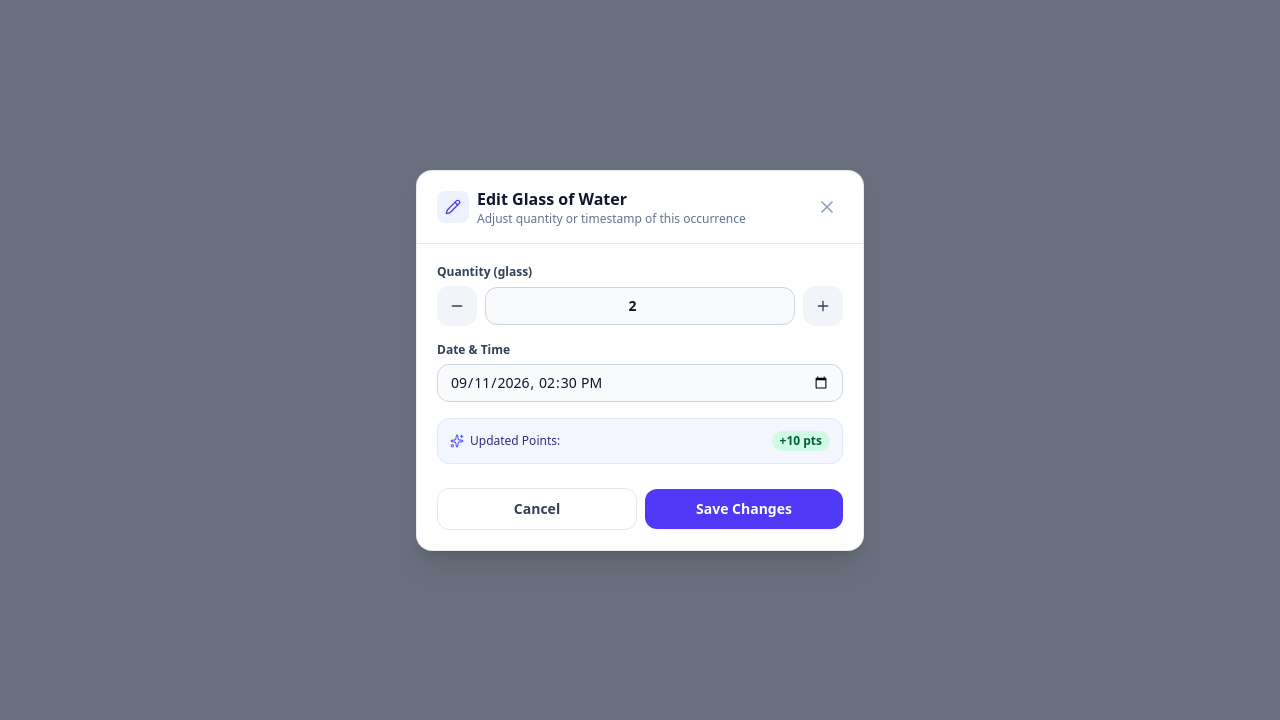
Test: EditOccurrenceModal › updates calculated points dynamically when quantity changes
The width and height of the screenshot is (1280, 720).
Replace the text in the number field with test id "edit-quantity-input" with "4" at (640, 306), box left=485, top=286, right=795, bottom=324
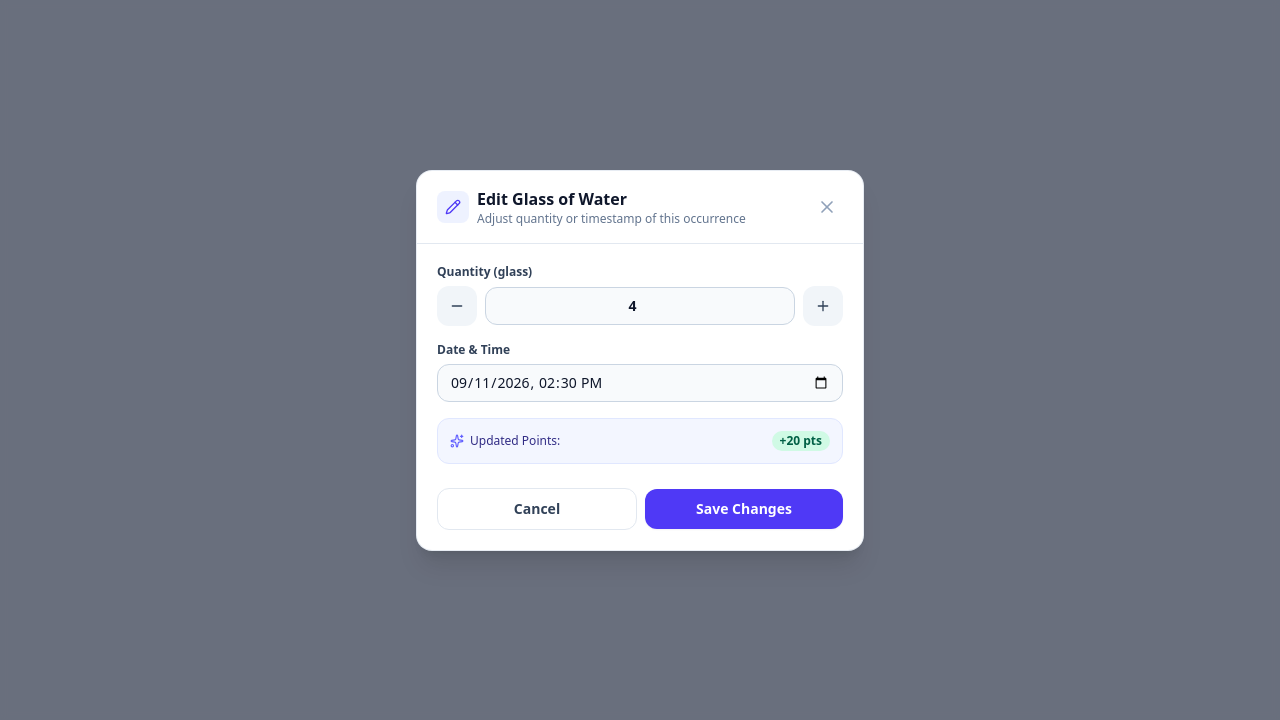
Result: the text "+20 pts" is shown at left=772, top=430, right=830, bottom=450
